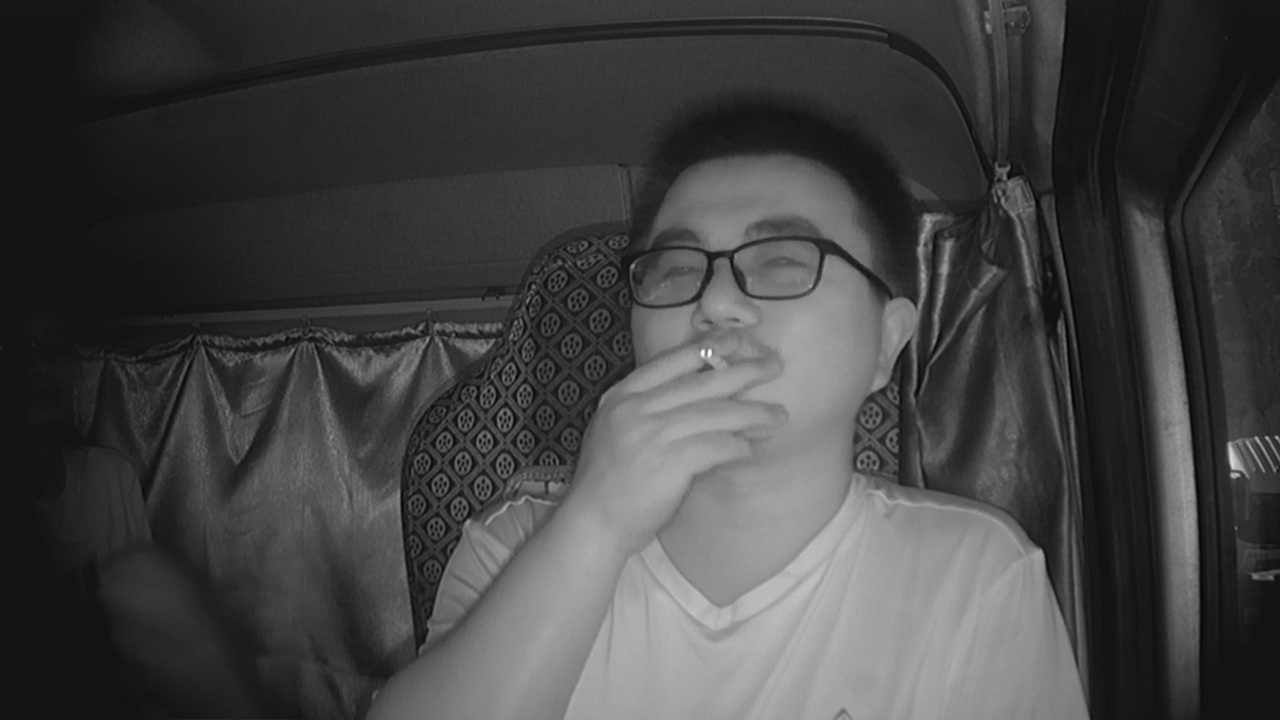hand: (589, 332, 781, 498)
